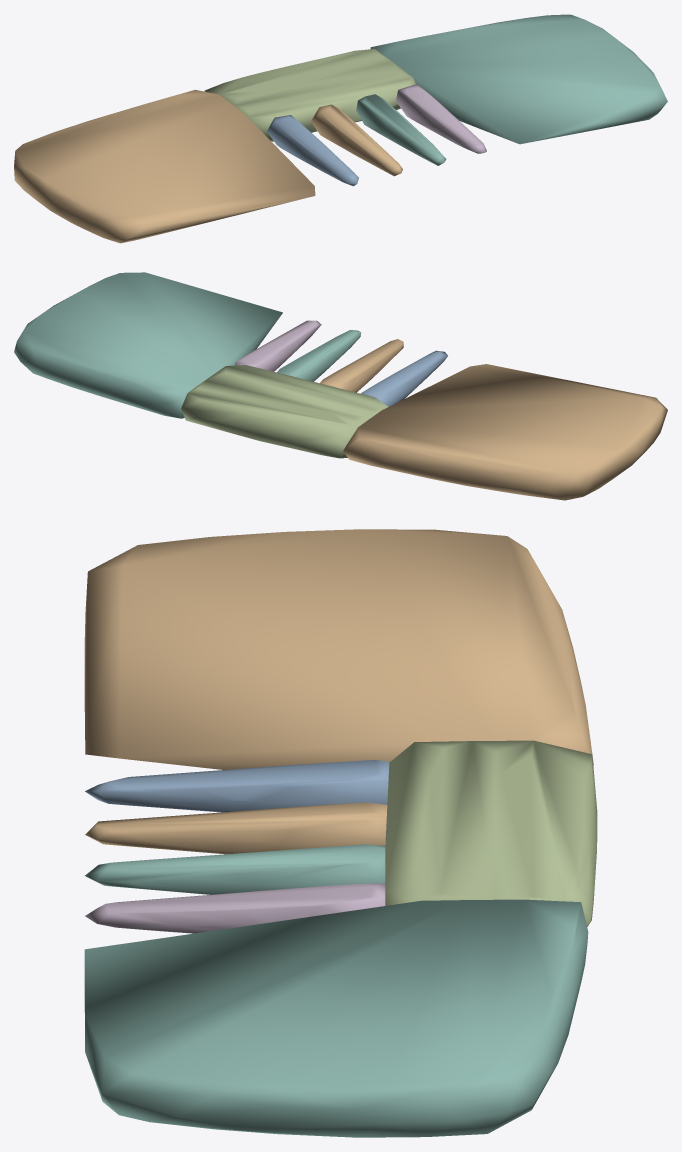
3 views of the same model, one above another, from view 1: azimuth 30°, elevation 25°; view 2: azimuth 150°, elevation 25°; view 3: azimuth 270°, elevation 25° (orthographic). The views are drawn at different scales.
Bounding box in the file's own units: 1.99 × 0.0856 × 0.7586.
